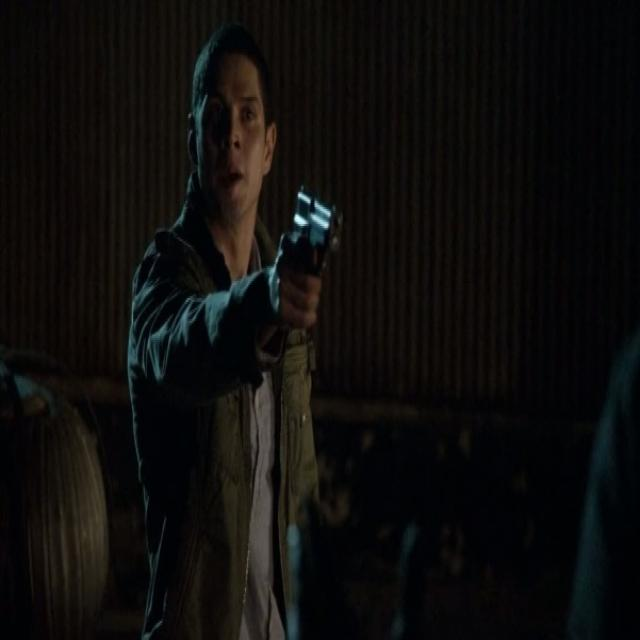weapons: (264, 166, 354, 341)
